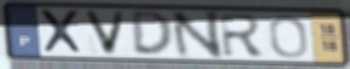D: (129, 9, 177, 58)
N: (169, 10, 226, 60)
O: (267, 14, 311, 60)
R: (217, 12, 269, 59)
V: (81, 8, 129, 58)
X: (36, 8, 88, 56)
